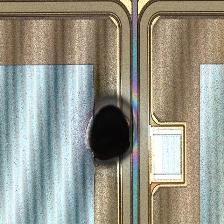PO CONTAMINATION: (70, 91, 154, 175)
